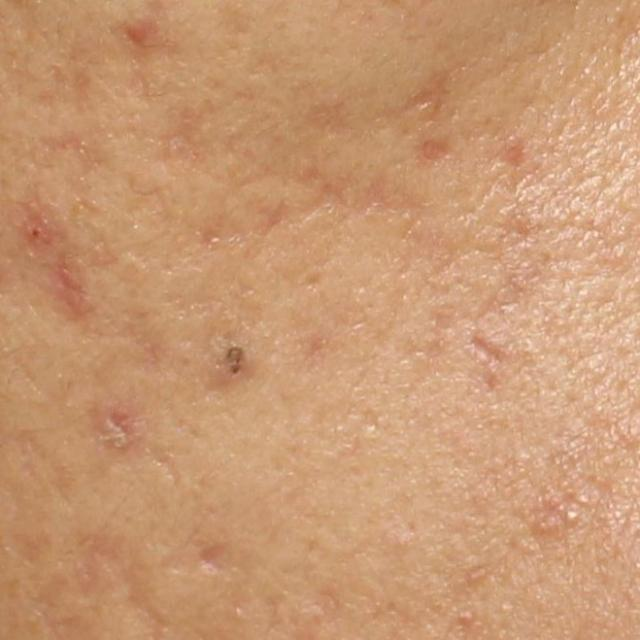blackhead: (229, 350, 240, 359), (232, 366, 238, 374)
